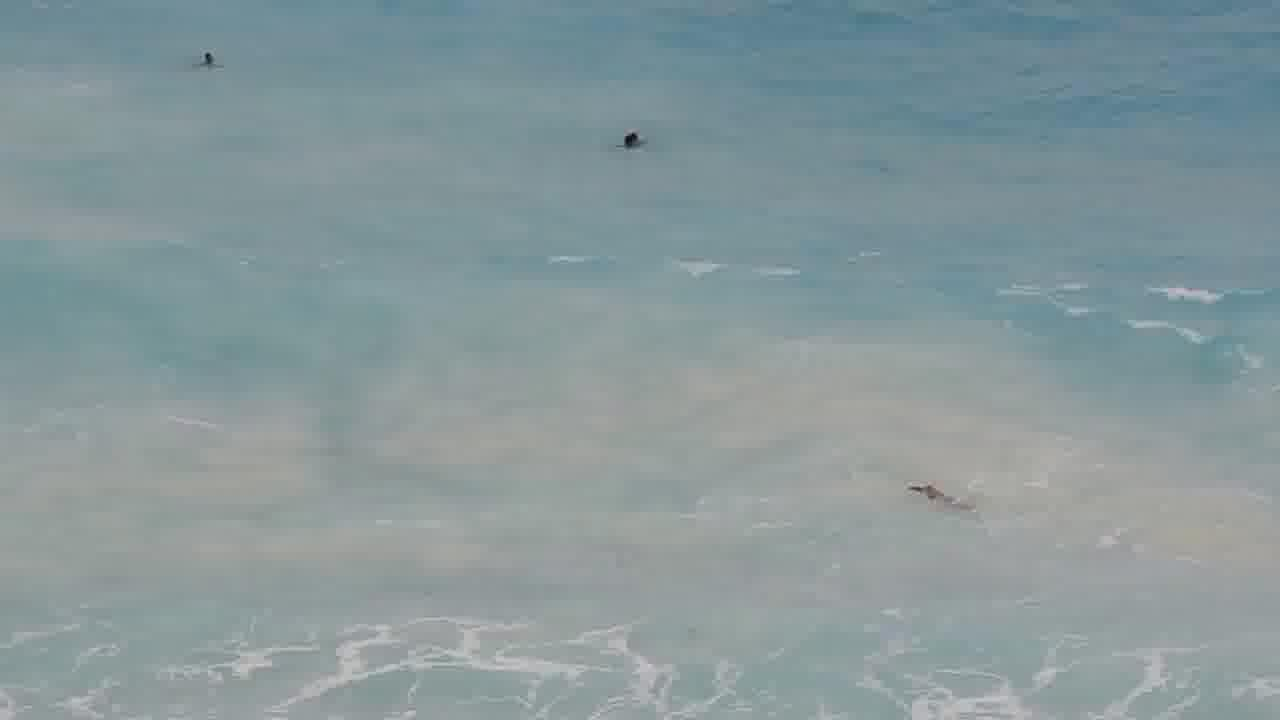human: (901, 467, 975, 516), (606, 114, 649, 160), (189, 45, 237, 74)
